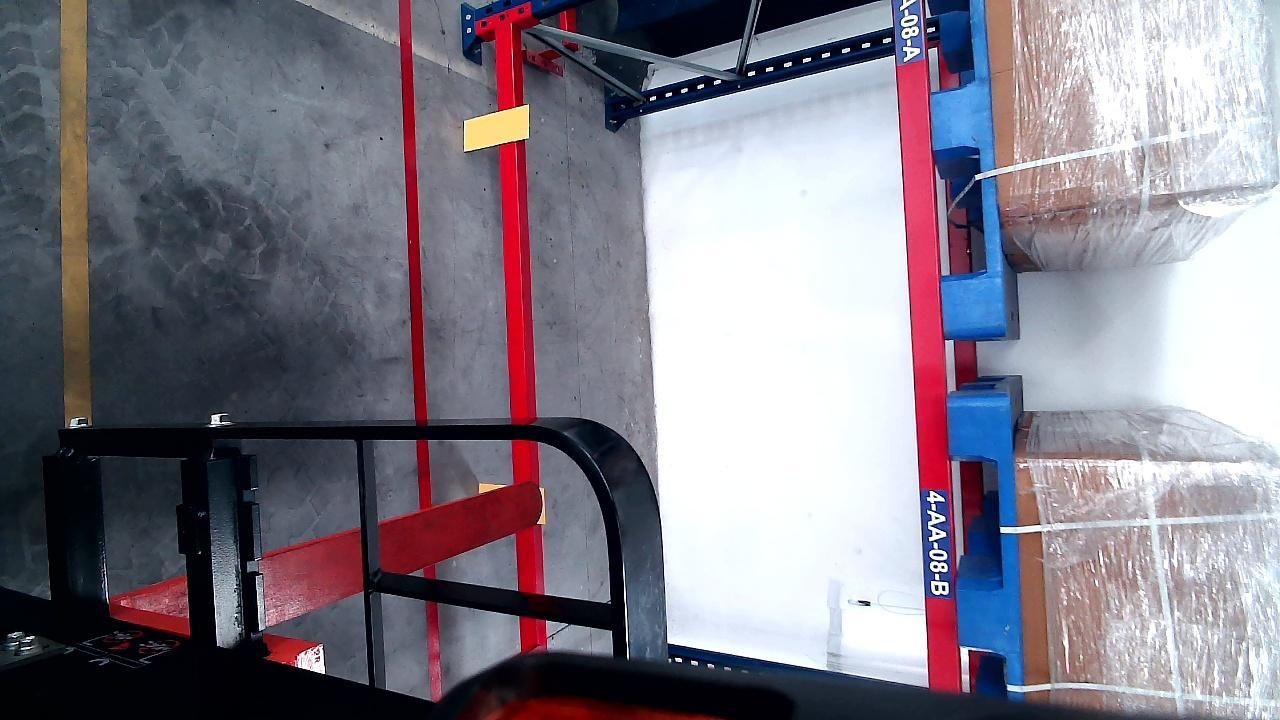red_line: (397, 0, 435, 512)
yellow_line: (59, 0, 93, 420)
